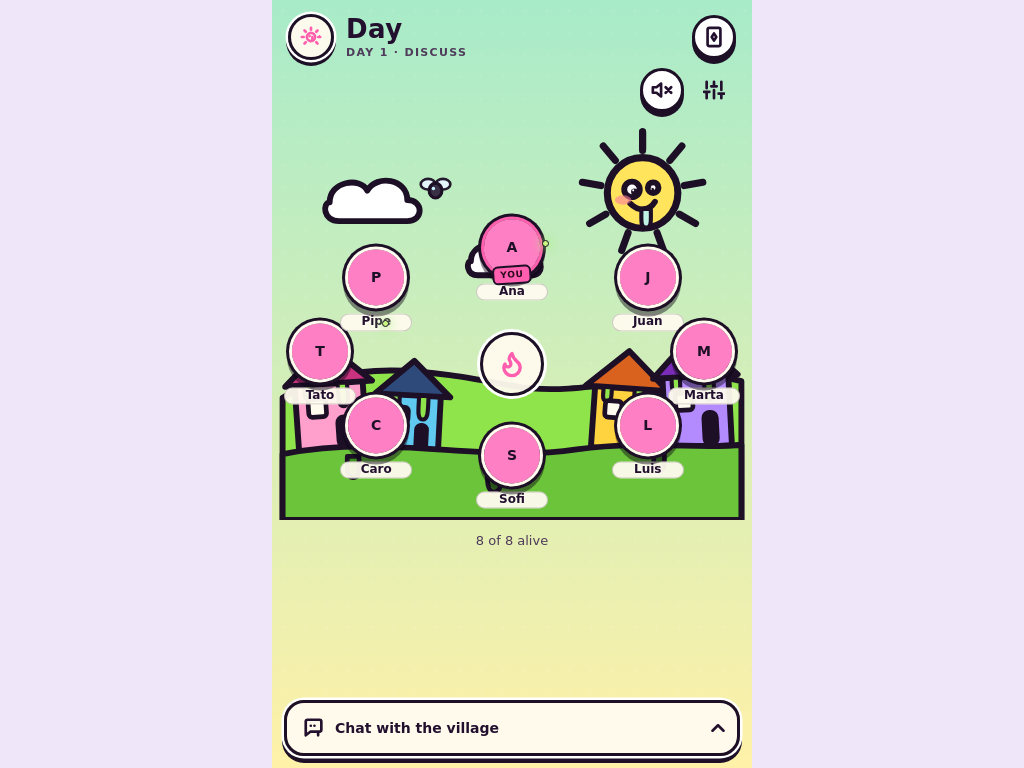
Test case: moderated messages › explains chat-muted
Click the button with class "chatbar". click: x=417, y=728
box: [284,700,740,756]
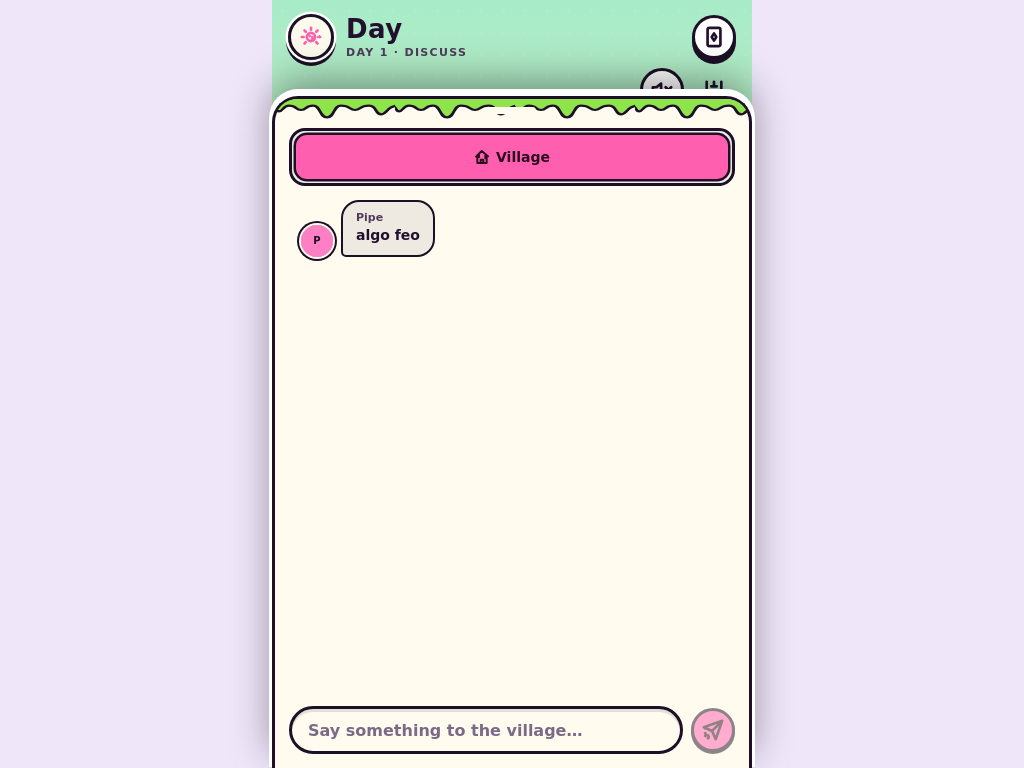
Type "hola" into the field with placeholder "Say something to the village…". click: x=486, y=730
box: [289,706,683,754]
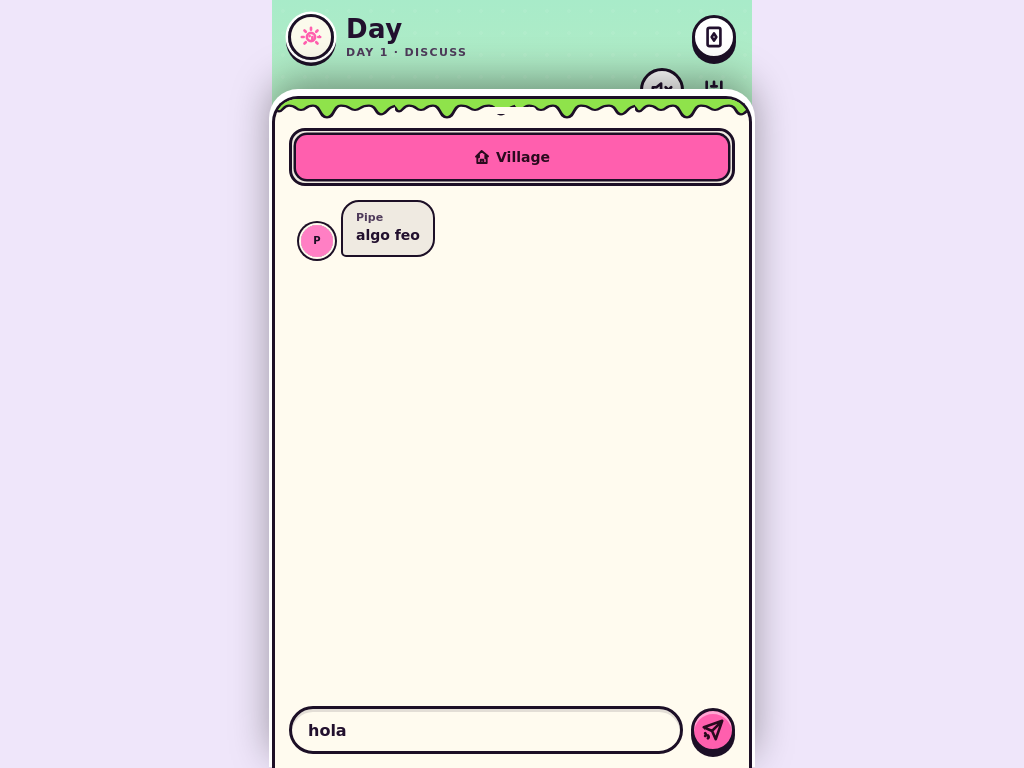
Submit the form with class "composer", box [289,706,735,754]
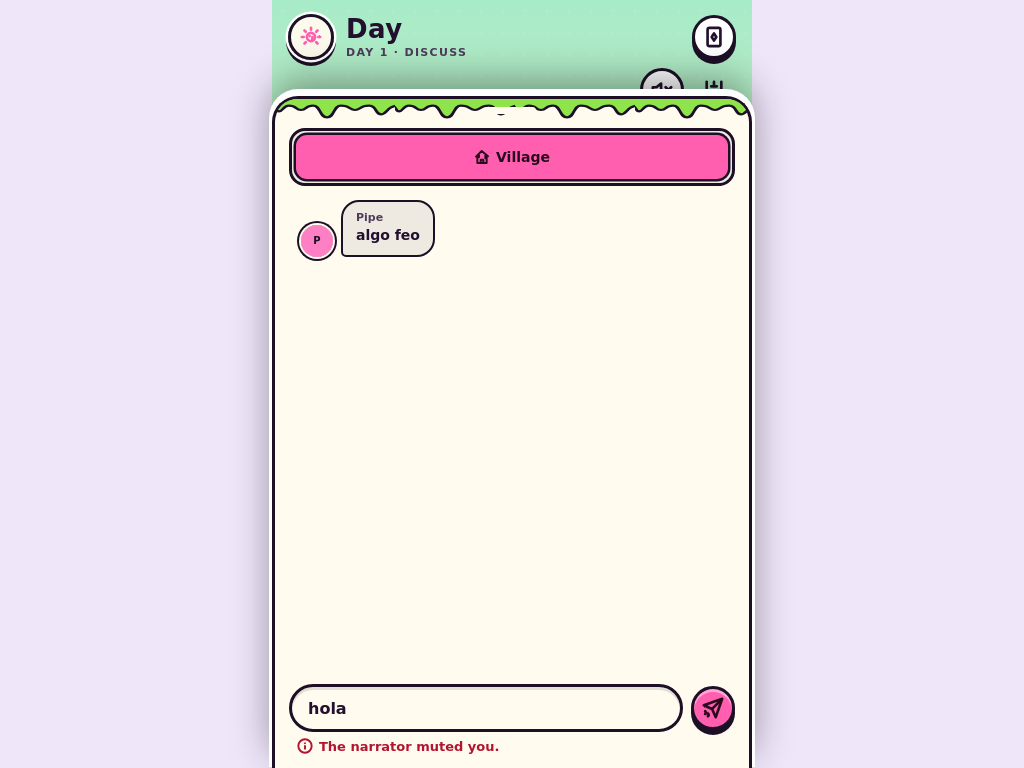
Expected: the message with class "chat-composer-error" reads "The narrator muted you.", [319,738,499,754]
